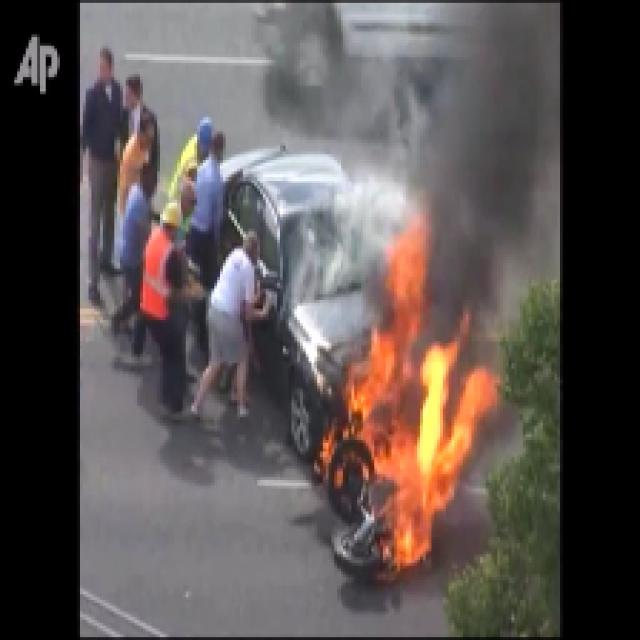fire: (431, 30, 542, 302), (328, 330, 452, 570)
